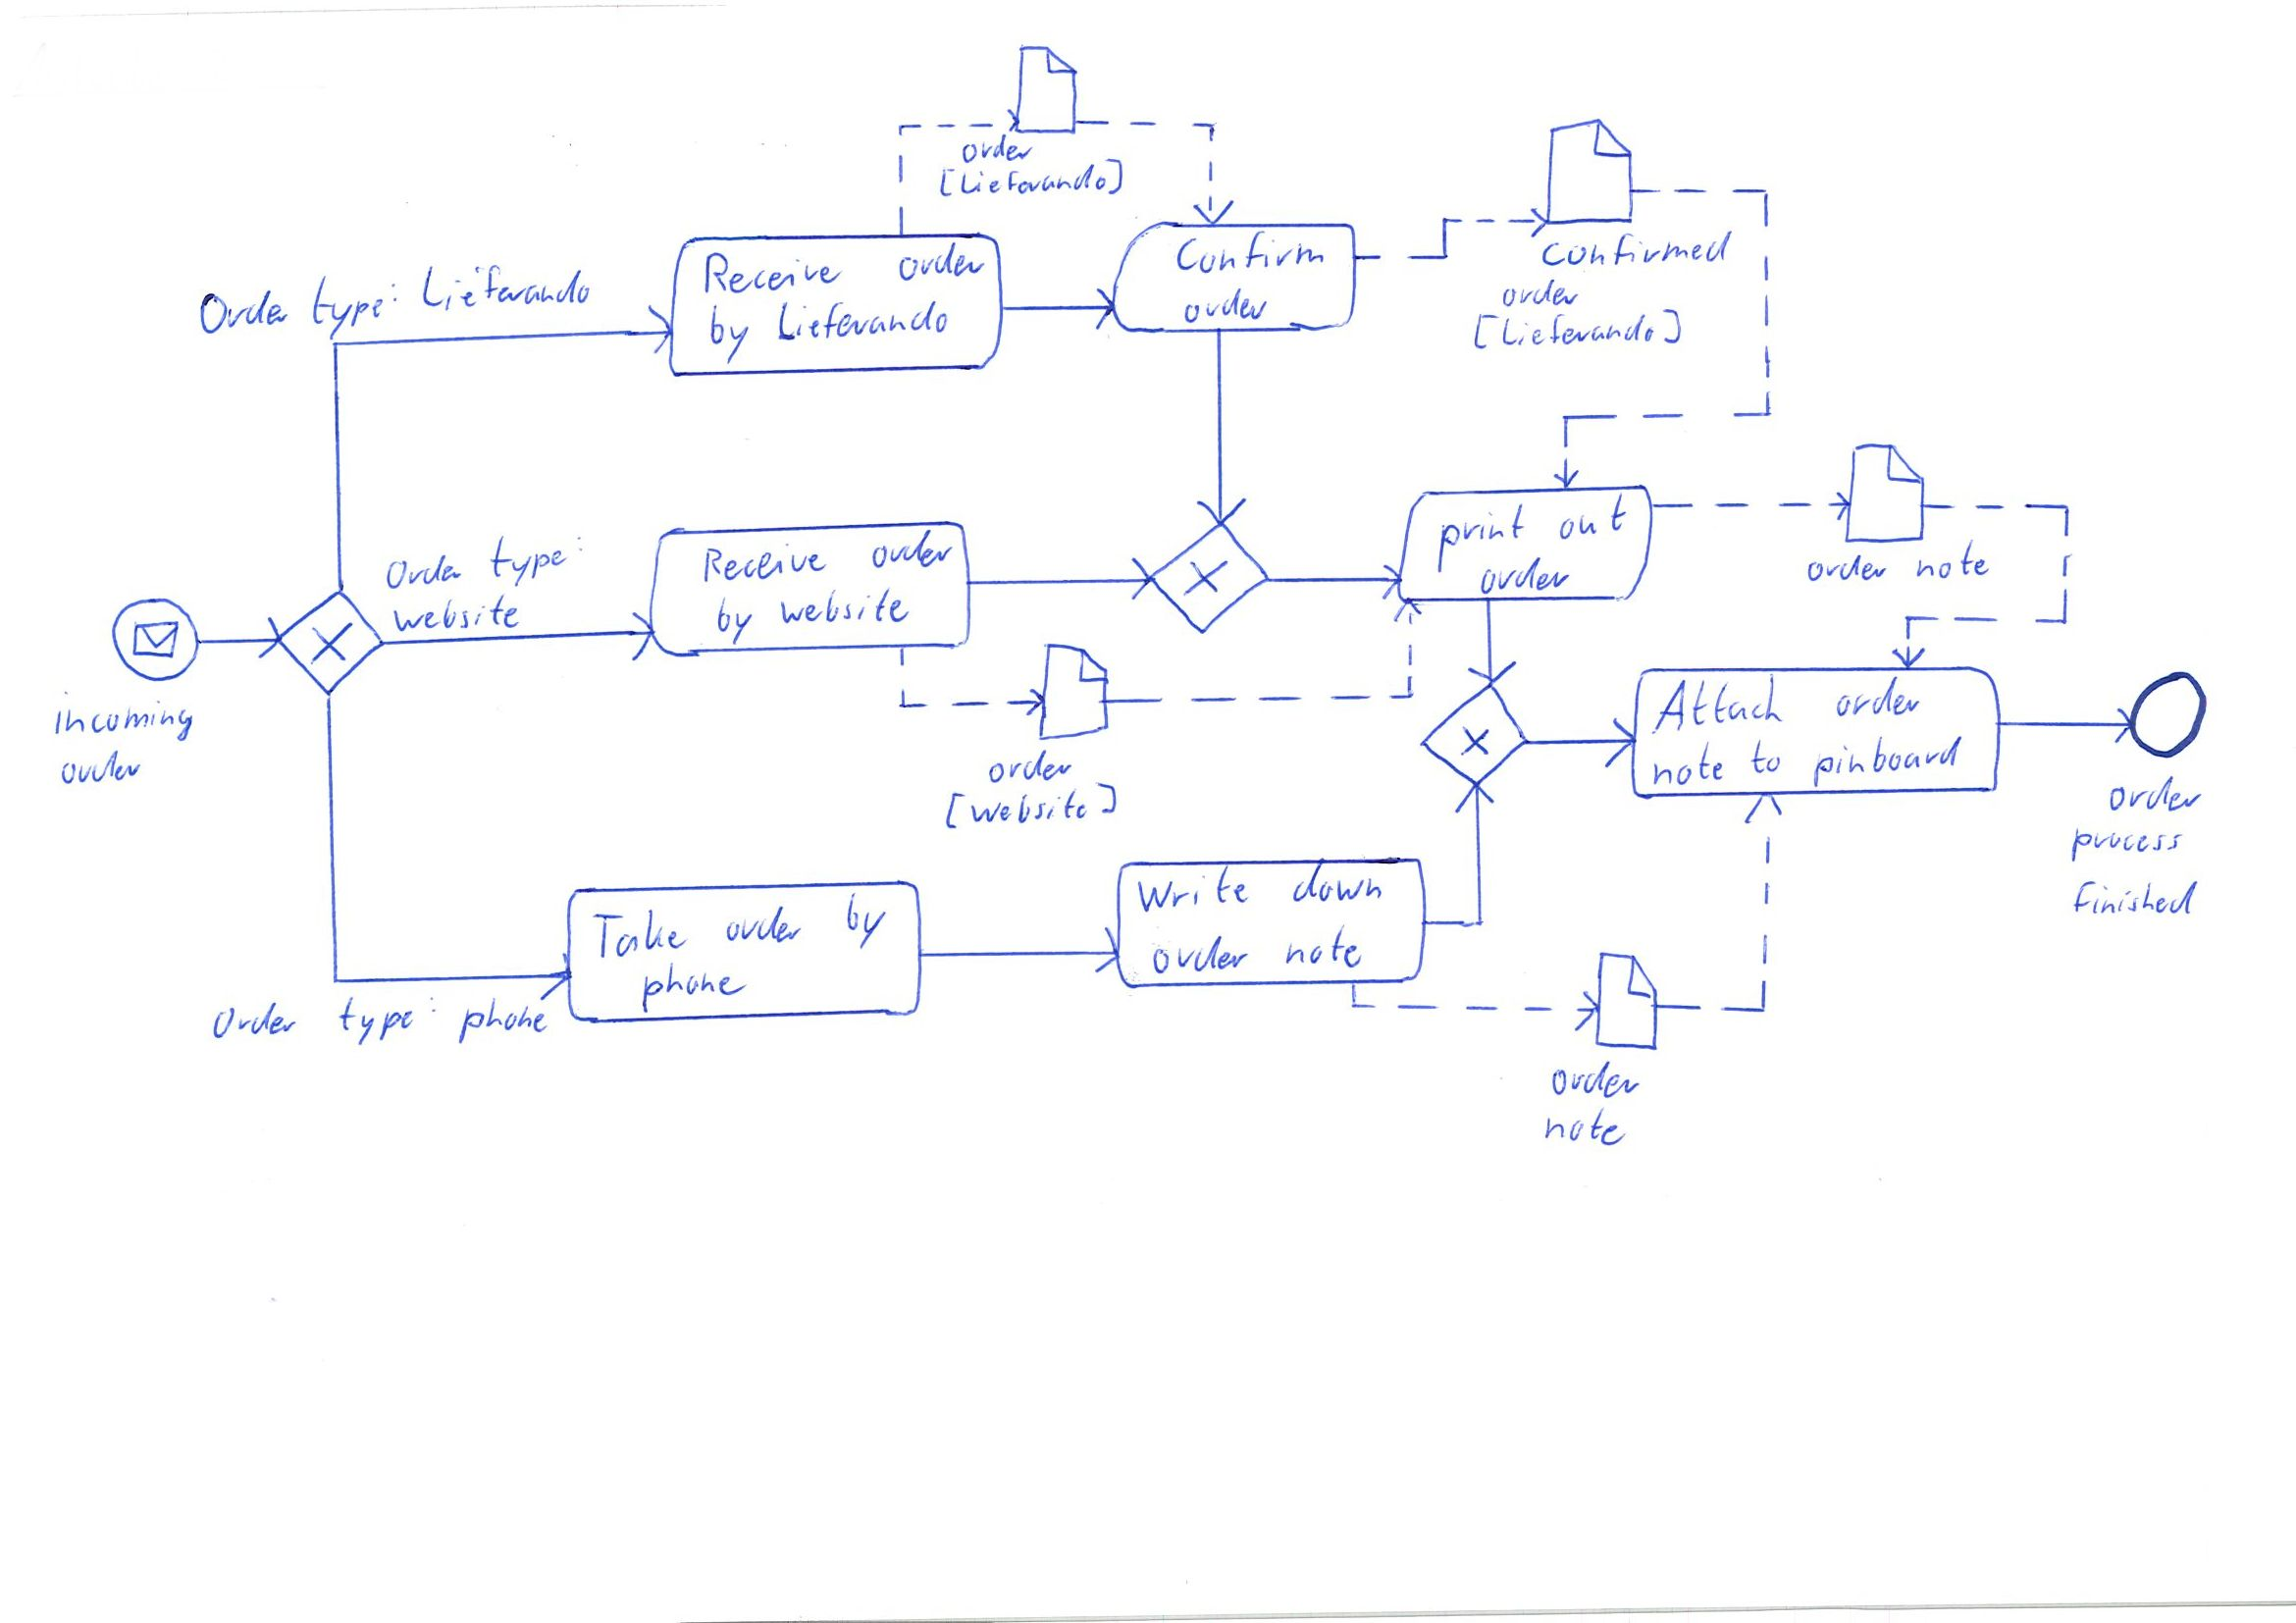Attach: (1653, 680, 1788, 736)
Confirm: (1172, 232, 1330, 276)
Finished: (2069, 875, 2201, 917)
Incoming: (49, 685, 197, 741)
Lieferando: (418, 260, 594, 313), (776, 297, 956, 344)
Order: (197, 288, 292, 339), (211, 996, 299, 1042), (383, 553, 467, 592)
Receive: (701, 251, 848, 297), (699, 541, 827, 583)
Take: (590, 908, 690, 961)
[Lieferando]: (1470, 307, 1686, 351), (935, 156, 1124, 198)
[website]: (942, 780, 1123, 833)
by: (708, 304, 755, 364), (845, 891, 891, 949), (710, 597, 757, 646)
confirmed: (1539, 225, 1737, 269)
down: (1291, 861, 1384, 906)
note: (1284, 924, 1365, 968), (1648, 745, 1730, 787), (1544, 1108, 1628, 1147), (1913, 541, 1992, 581)
oder: (870, 529, 957, 573)
order: (1151, 934, 1253, 977), (1830, 676, 1925, 720), (1476, 555, 1574, 597), (896, 239, 987, 281), (2105, 778, 2208, 815), (1549, 1063, 1644, 1101), (724, 901, 803, 947), (1180, 286, 1272, 325), (986, 748, 1077, 785), (60, 750, 146, 789), (1498, 276, 1583, 313), (1804, 552, 1894, 583), (959, 130, 1036, 165)
out: (1556, 492, 1632, 541)
phone: (639, 959, 745, 1015), (455, 999, 550, 1045)
pinboard: (1811, 732, 1964, 789)
print: (1432, 499, 1528, 576)
process: (2068, 827, 2187, 861)
to: (1748, 739, 1788, 778)
type:: (307, 274, 399, 341), (334, 994, 439, 1047), (488, 530, 583, 588)
website: (776, 588, 910, 629), (390, 595, 522, 634)
write: (1133, 864, 1251, 913)
